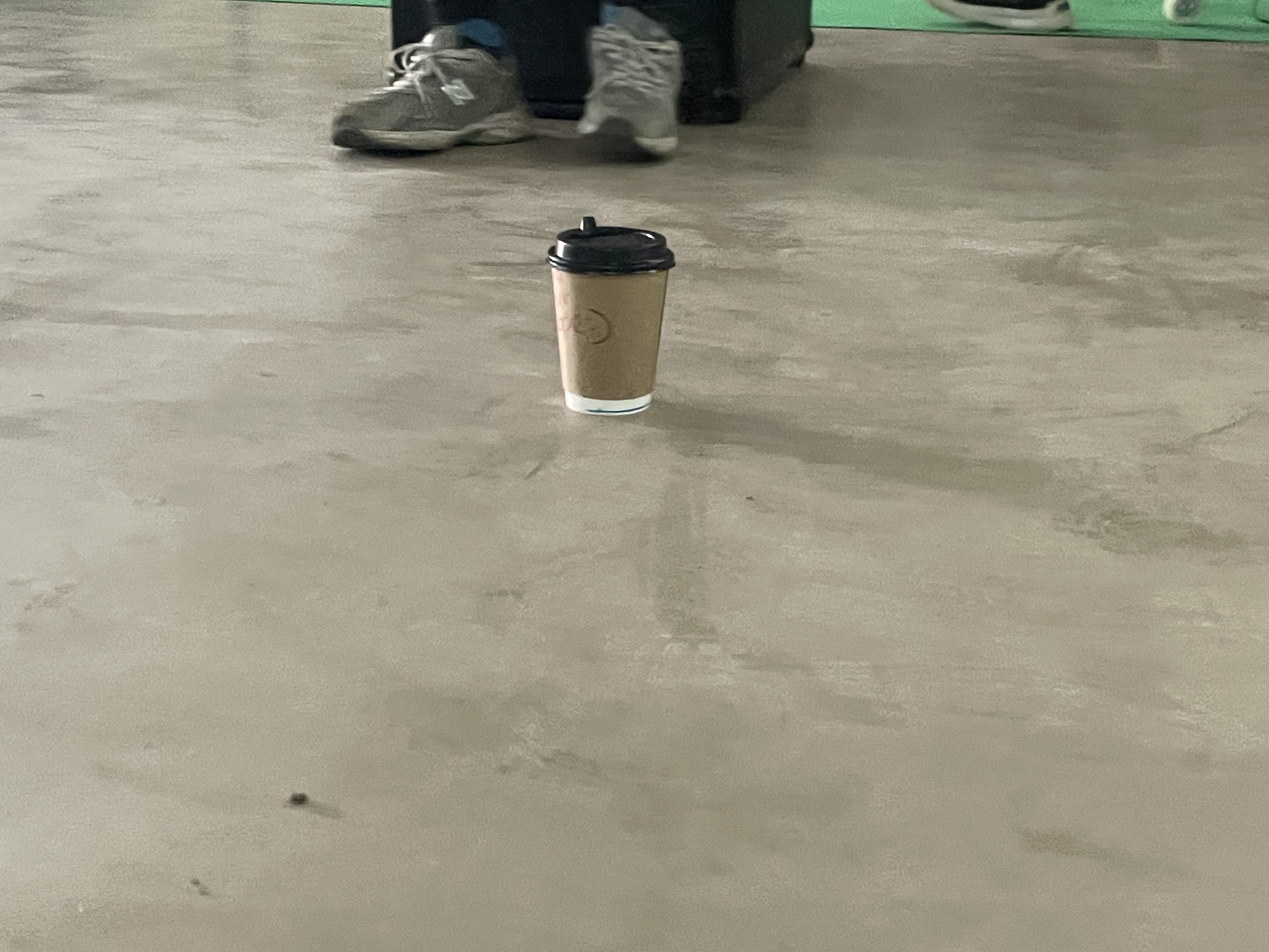cup: (547, 216, 676, 415)
